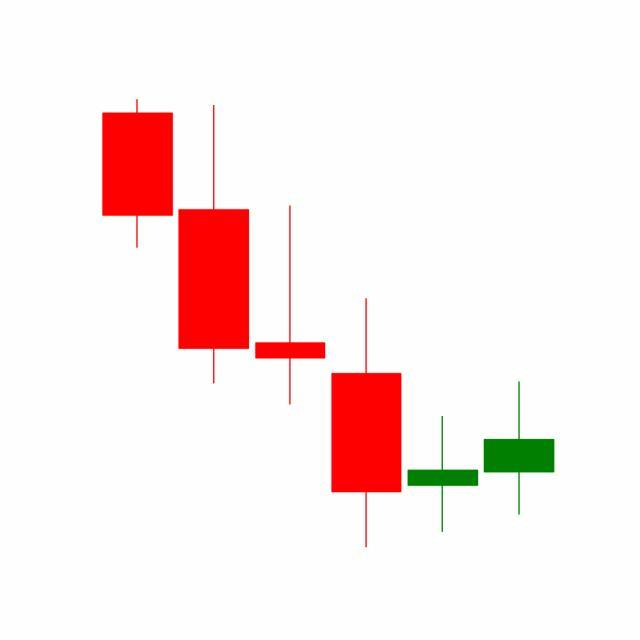Hikkake Pattern: (175, 101, 555, 549)
